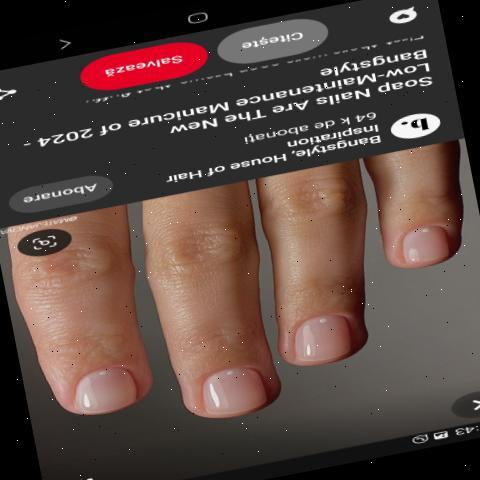Hands: (0, 148, 480, 426)
